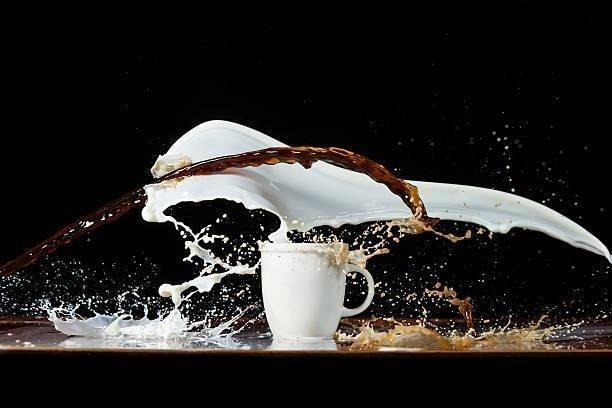cup-handle: (259, 239, 375, 344)
